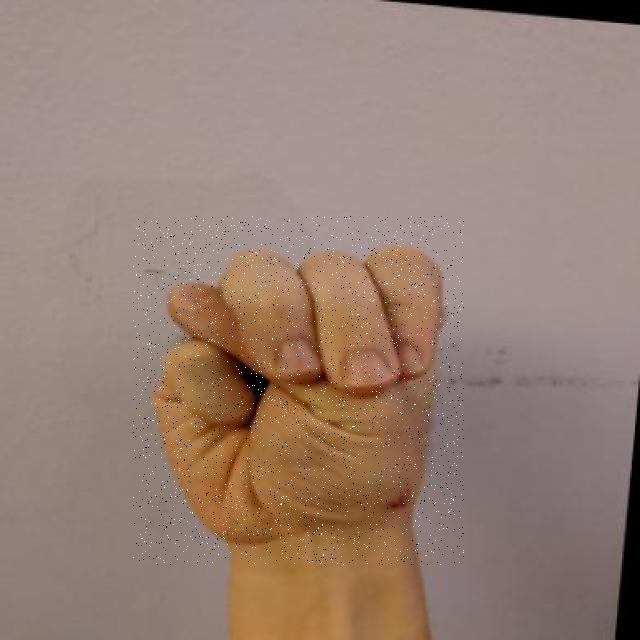M: (133, 216, 464, 565)
